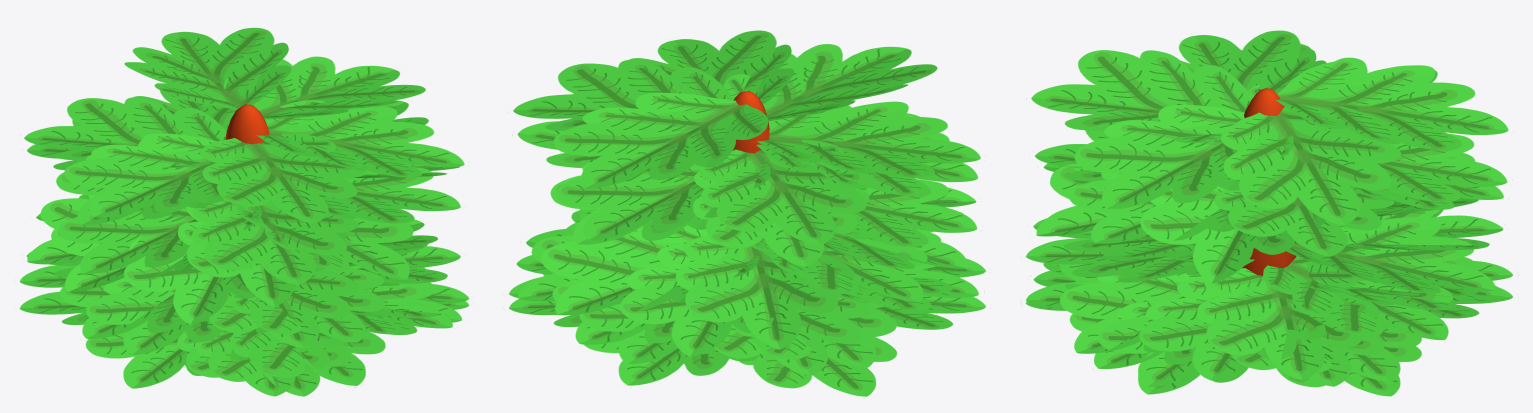
Rendered from Shrub.glb.
The picture shows the model from 3 angles, left to right: view 1: azimuth 30°, elevation 25°; view 2: azimuth 150°, elevation 25°; view 3: azimuth 270°, elevation 25°; orthographic projection. The views are drawn at different scales.
Parts seen in each view (by area): view 1: Leaves, Stem; view 2: Leaves, Stem; view 3: Leaves, Stem.
Part boxes in pixels (box(x1,y1,x2,y2)): Leaves: box(19, 27, 469, 396); Stem: box(225, 104, 269, 144); Leaves: box(509, 30, 985, 396); Stem: box(732, 91, 769, 153); Leaves: box(1025, 30, 1513, 396); Stem: box(1242, 88, 1296, 275).
Size of the model in its own units: 4.61 by 2.39 by 4.62.
2 materials, 1 textured.
